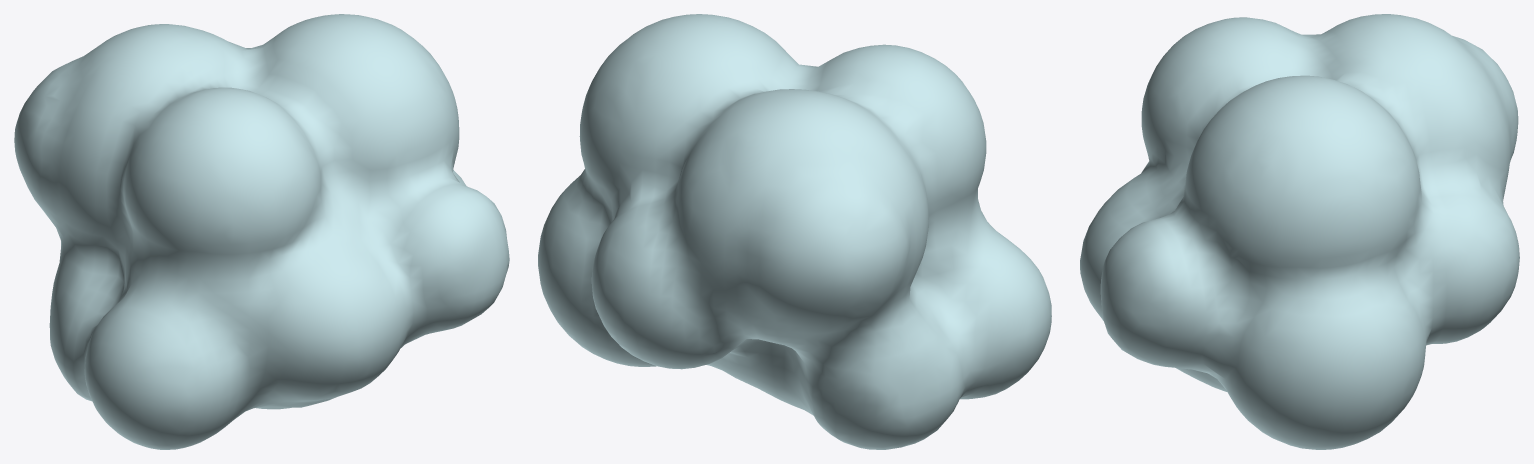
Rendered from cloud2.FBX.
The picture shows the model from 3 angles, left to right: view 1: azimuth 30°, elevation 25°; view 2: azimuth 150°, elevation 25°; view 3: azimuth 270°, elevation 25°; orthographic projection. The views are drawn at different scales.
Visible parts, largest first — view 1: PM3D_Sphere3D_007; view 2: PM3D_Sphere3D_007; view 3: PM3D_Sphere3D_007.
Boxes of the visible parts, x1=… form: PM3D_Sphere3D_007: x1=14, y1=14, x2=509, y2=449; PM3D_Sphere3D_007: x1=538, y1=14, x2=1051, y2=449; PM3D_Sphere3D_007: x1=1080, y1=14, x2=1519, y2=449.
Bounding box in the file's own units: 60.07 × 46.24 × 53.27.
